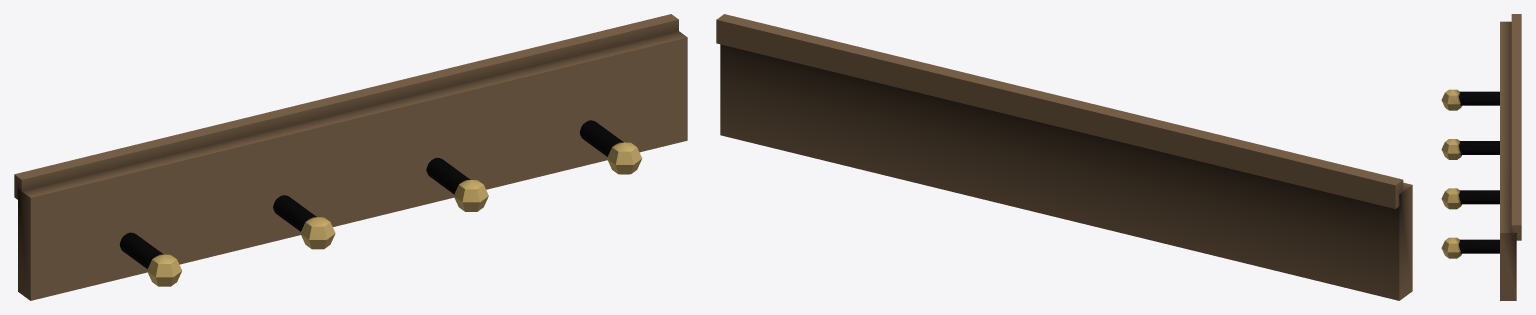
The model's file is coat_hooks.glb.
3 views of the same model, side by side, from view 1: azimuth 30°, elevation 25°; view 2: azimuth 150°, elevation 25°; view 3: azimuth 270°, elevation 25° (orthographic). The views are drawn at different scales.
Visible parts, largest first — view 1: coat_hooks; view 2: coat_hooks; view 3: coat_hooks.
Part boxes in pixels (x1,y1,x2,y2): coat_hooks: (14,14,687,300); coat_hooks: (716,14,1412,300); coat_hooks: (1441,14,1521,300).
Size of the model in its own units: 0.6 by 0.1 by 0.096.
